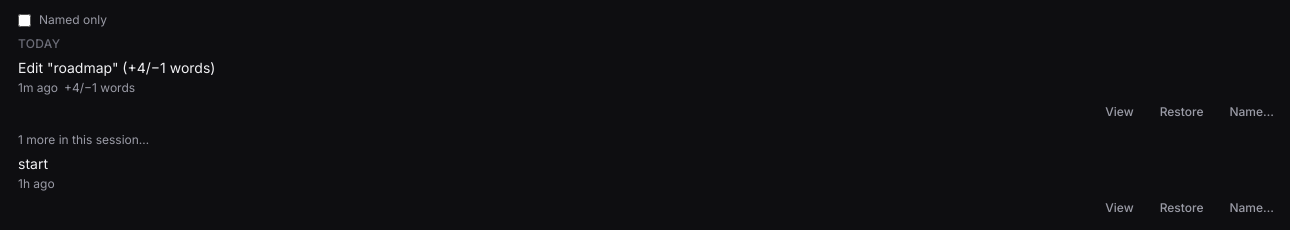
Test case: HistoryList (Versions browser) › filters to named versions only
Click the checkbox labelled "Named only" at (24, 20), box [18,14,31,26]
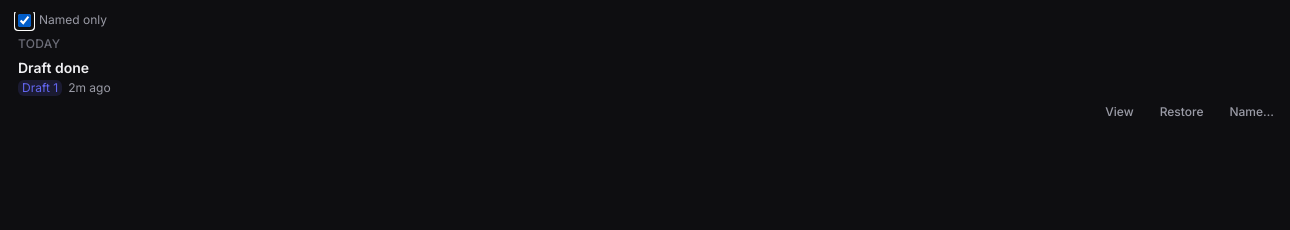
Result: the text "Draft done" is shown at [18,59,89,76]
Result: the text "start" is gone
Result: the text "Draft 1" is shown at [18,80,62,96]
